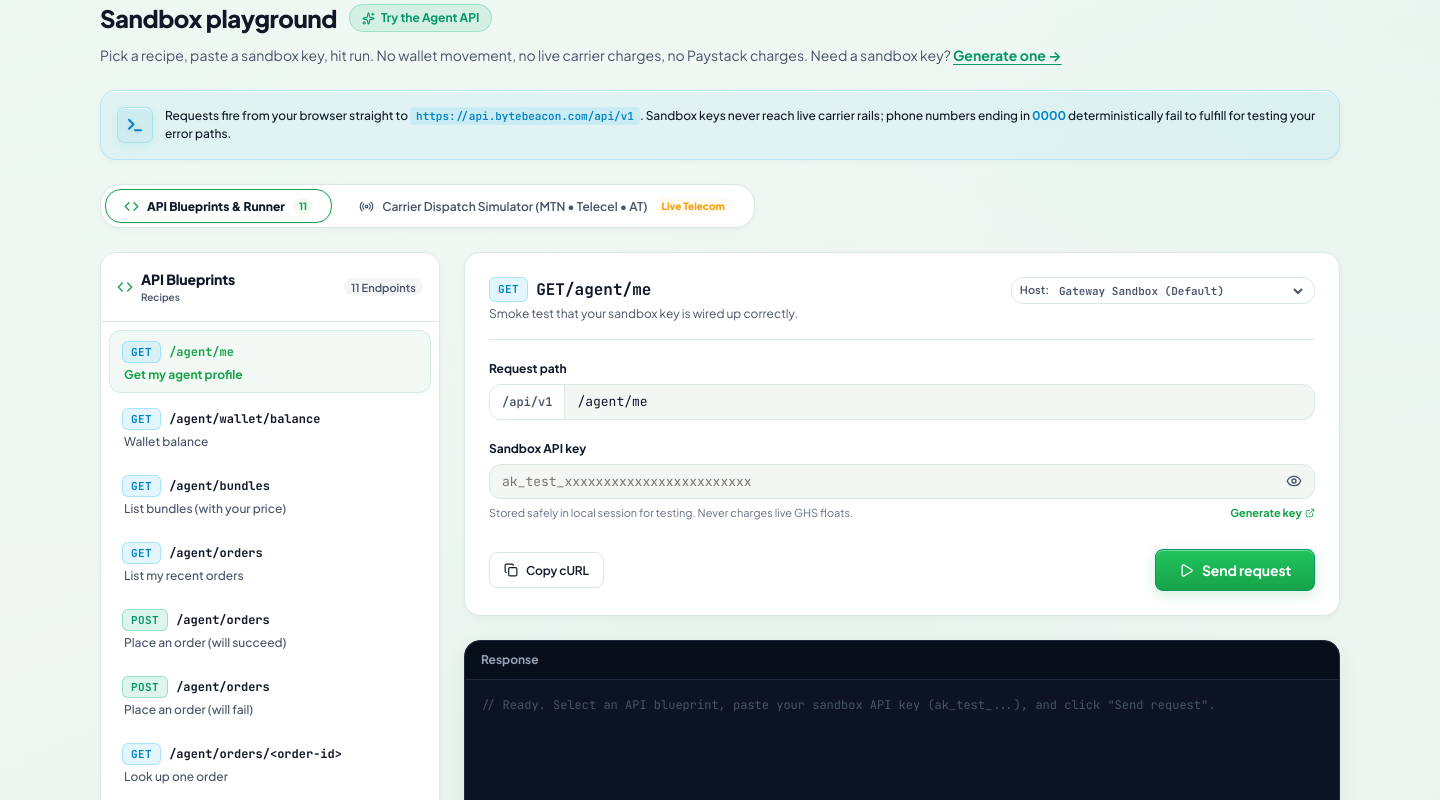
AgentSandboxPage — Sandbox Playground Spec & Interactive Runner › 4. switches recipe to Place an order (will succeed) with payload & fresh idempotency key
Click the text "Place an order (will succeed)": (204, 643) top-left (122, 635), bottom-right (286, 650)
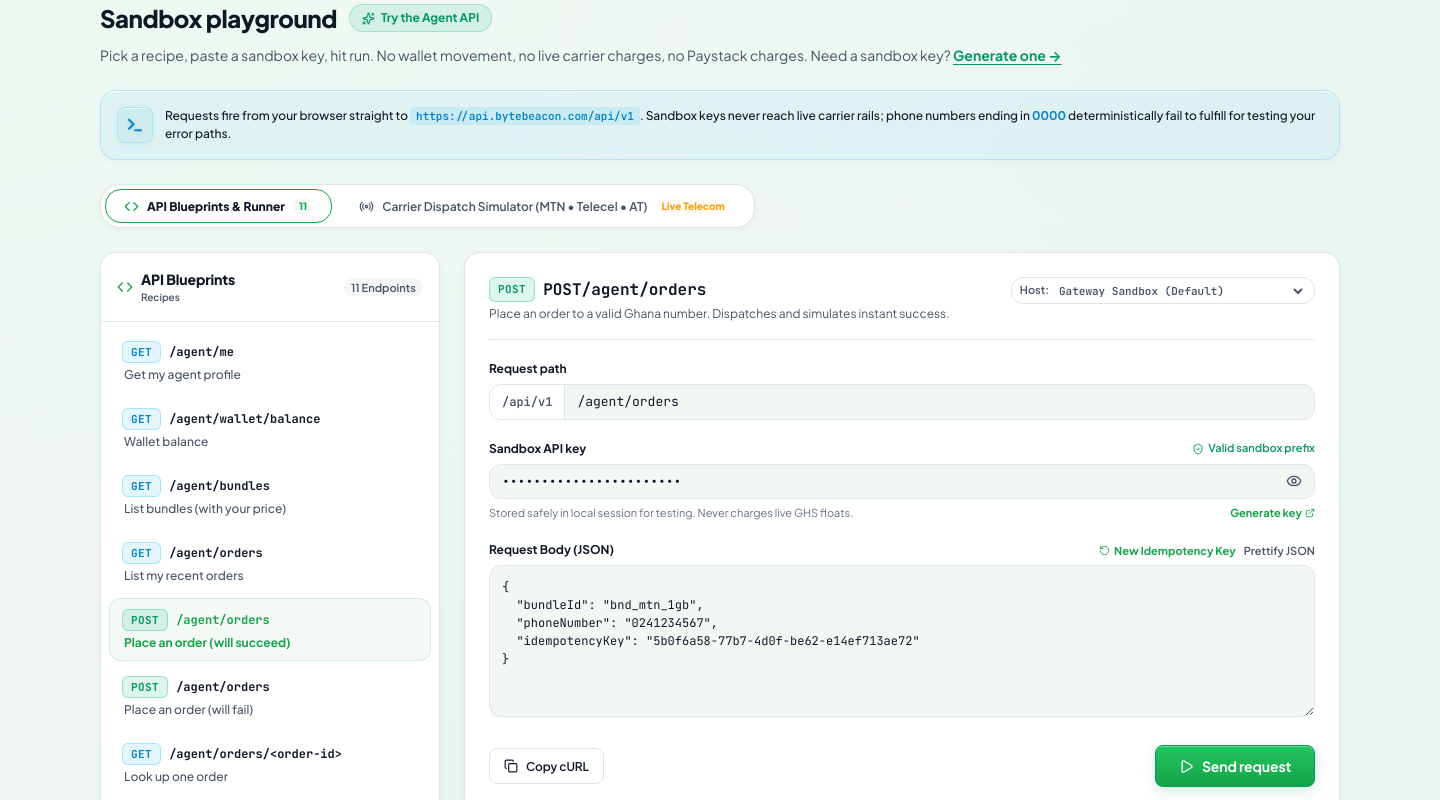
Expected: the field showing "/agent/orders" is shown, top-left (565, 385), bottom-right (1314, 418)
Expected: the text box showing "0241234567" is shown, top-left (489, 565), bottom-right (1315, 717)
